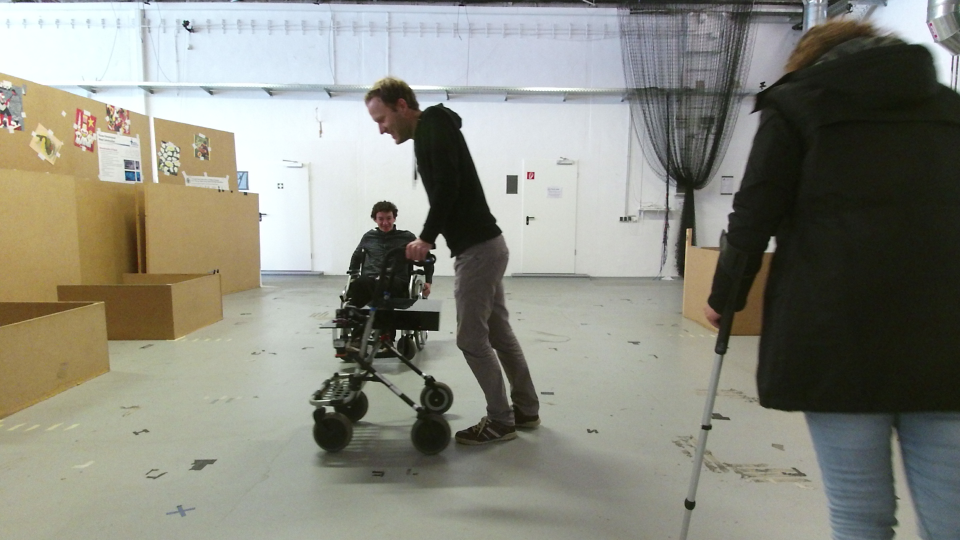crutches: (672, 1, 960, 540)
